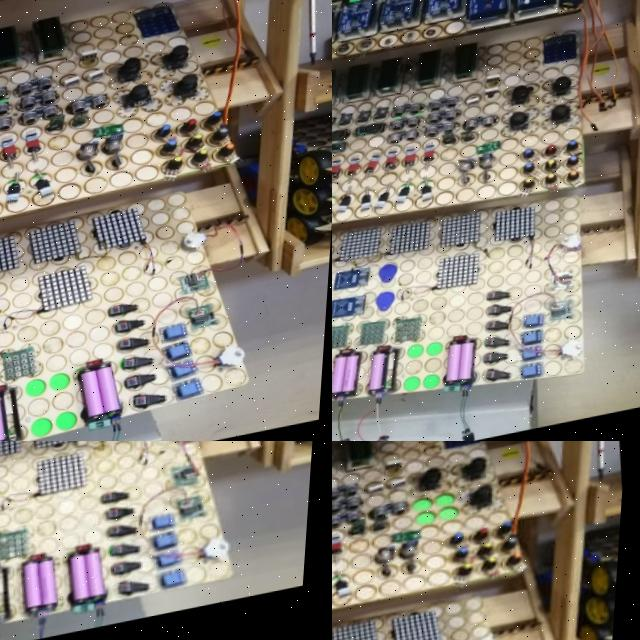Green-circles: (24, 371, 82, 406), (417, 495, 467, 534), (31, 413, 98, 441)
